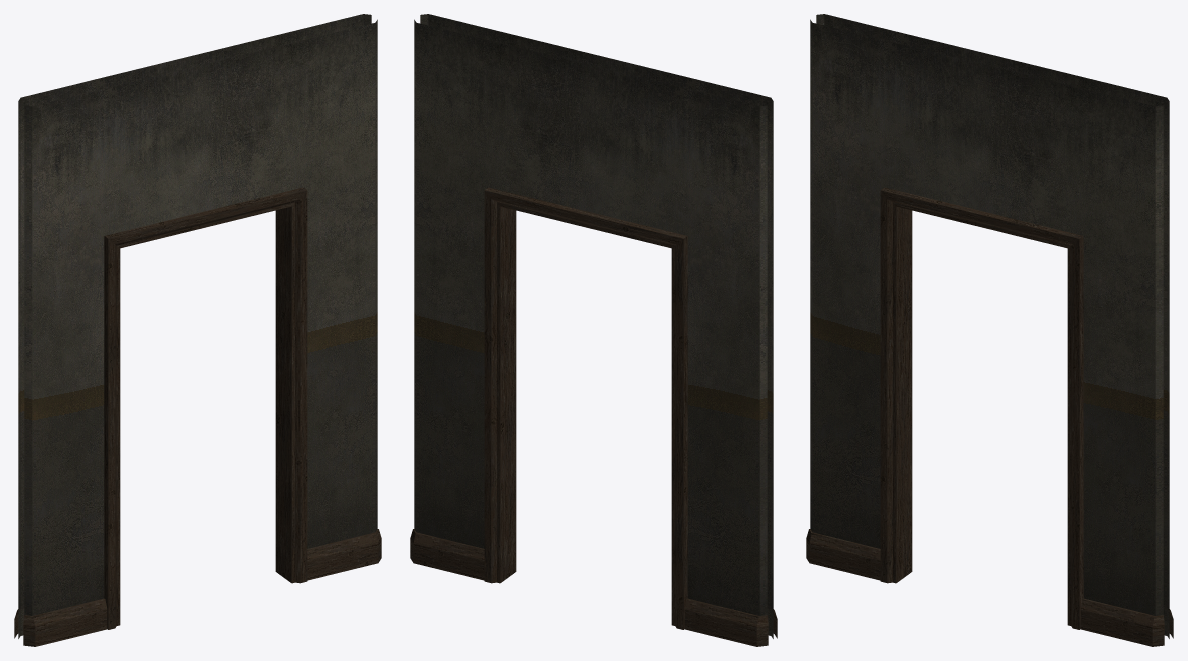
Rendered from doorway_1_half.glb.
3 views of the same model, side by side, from view 1: azimuth 30°, elevation 25°; view 2: azimuth 150°, elevation 25°; view 3: azimuth 330°, elevation 25° (orthographic).
Visible parts, largest first — view 1: doorway_1_half; view 2: doorway_1_half; view 3: doorway_1_half.
Part boxes in pixels (x1=…): doorway_1_half: x1=14, y1=14, x2=381, y2=646; doorway_1_half: x1=410, y1=14, x2=777, y2=646; doorway_1_half: x1=806, y1=14, x2=1173, y2=646.
Bounding box in the file's own units: 2.09 × 3 × 0.2.
2 materials, 2 textured.
